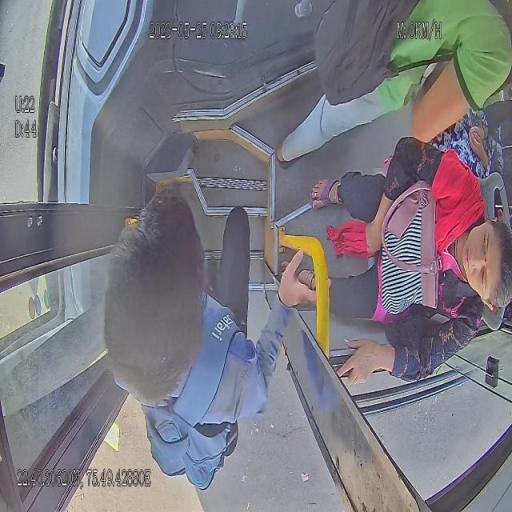persona: (102, 188, 332, 491), (280, 136, 512, 387), (276, 1, 511, 166)
